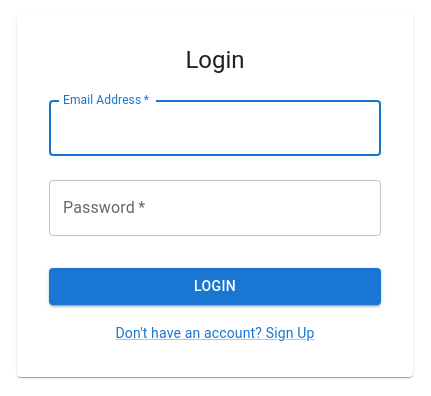
Test case: Login Page › disables form submission while loading
This screenshot has width=431, height=396.
In the field labelled "Email Address *": (215,128) [49,100,381,156], type "test@example.com"
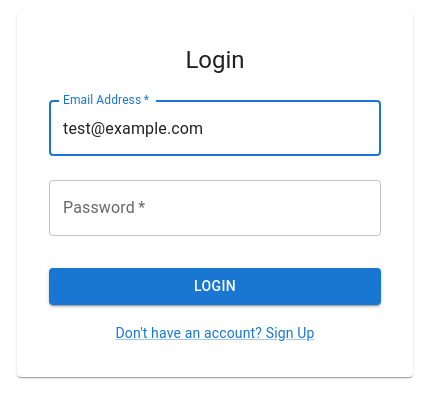
In the password field labelled "Password *": (215,208) [49,180,381,236], type "password123"
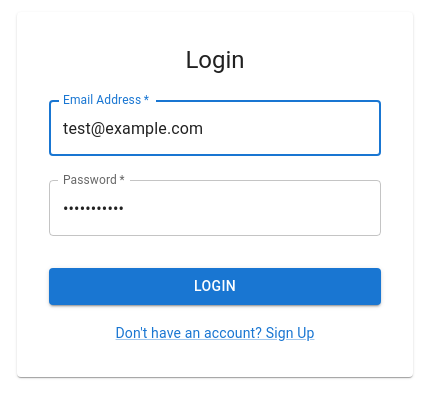
Click the button "Login": (215,287) [49,268,381,305]
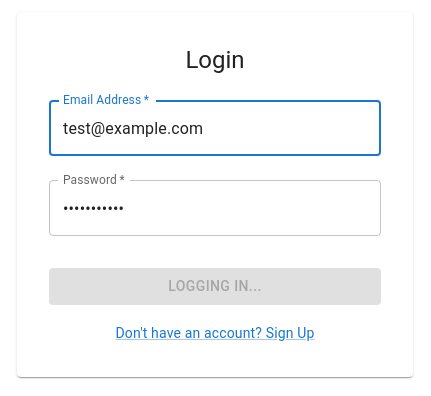
Check: the button "Logging in..." is disabled, box [49,268,381,305]
